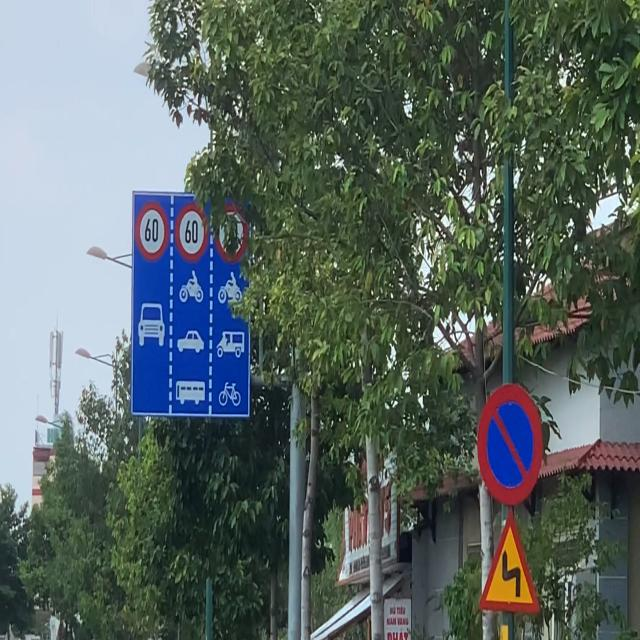Cam do: (476, 382, 544, 507)
Nguy hiem: (479, 506, 541, 616)
Toc do toi da: (175, 203, 209, 262), (135, 202, 169, 261)
